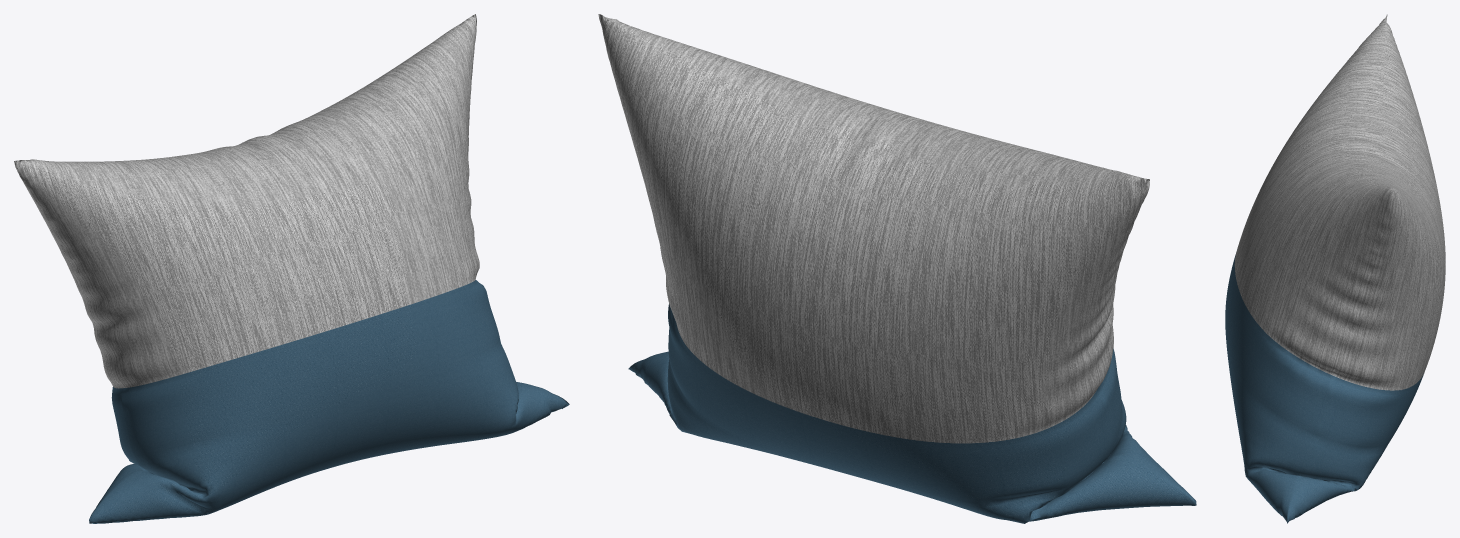
The model's file is johanna.gltf.
3 views of the same model, side by side, from view 1: azimuth 30°, elevation 25°; view 2: azimuth 150°, elevation 25°; view 3: azimuth 270°, elevation 25° (orthographic). The views are drawn at different scales.
Visible parts, largest first — view 1: Mesh.001; view 2: Mesh.001; view 3: Mesh.001.
Part boxes in pixels (box(x1,y1,x2,y2)): Mesh.001: box(14, 14, 569, 523); Mesh.001: box(598, 14, 1196, 523); Mesh.001: box(1225, 14, 1445, 523).
Bounding box in the file's own units: 0.5353 × 0.3657 × 0.2279.
1 material, 1 textured.
